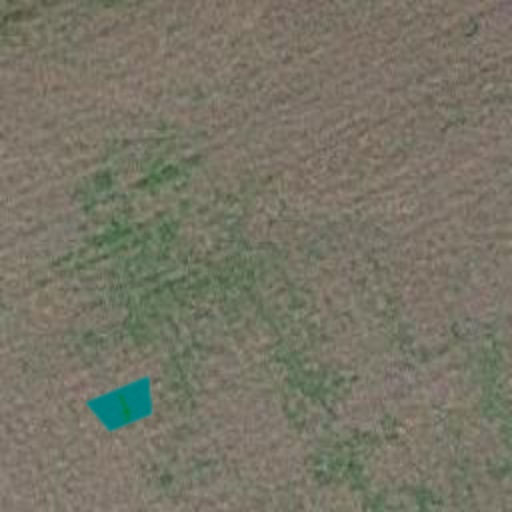trapezoid: (78, 360, 170, 452)
